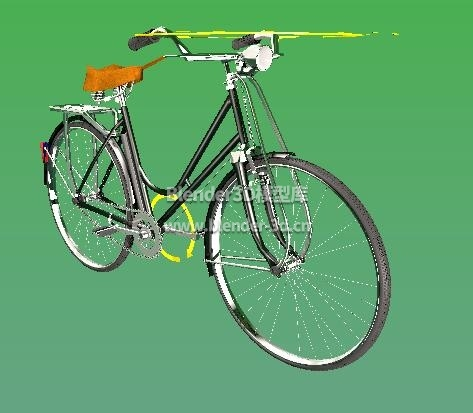MNV: (41, 29, 394, 371)
